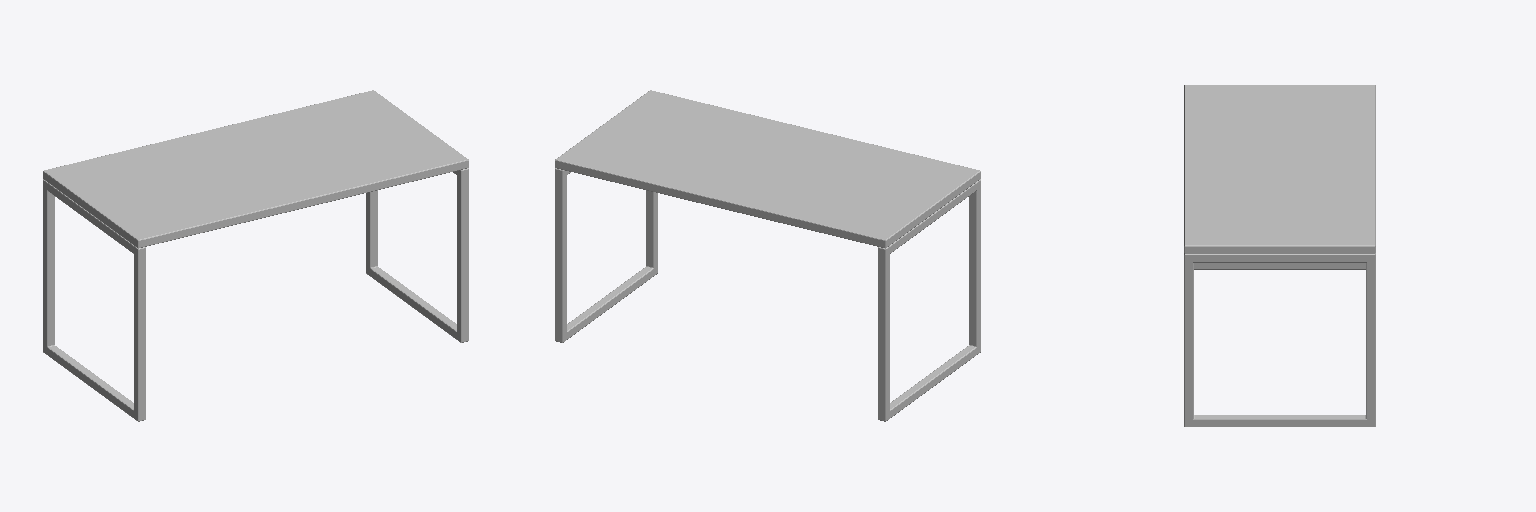
File: TableSquareLegs_blend.obj
3 views of the same model, side by side, from view 1: azimuth 30°, elevation 25°; view 2: azimuth 150°, elevation 25°; view 3: azimuth 270°, elevation 25° (orthographic).
Visible parts, largest first — view 1: Table_Cube.001; view 2: Table_Cube.001; view 3: Table_Cube.001.
Boxes of the visible parts, x1=… form: Table_Cube.001: x1=43, y1=90, x2=468, y2=421; Table_Cube.001: x1=555, y1=90, x2=980, y2=421; Table_Cube.001: x1=1184, y1=85, x2=1375, y2=426.
Bounding box in the file's own units: 2 × 1.05 × 1.